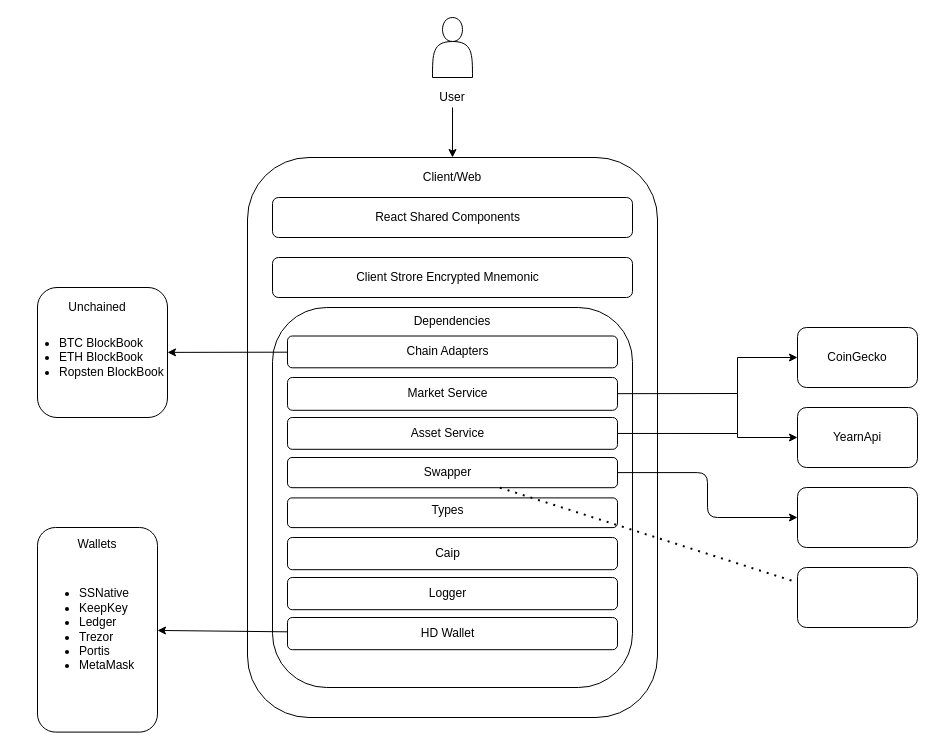
The diagram is 935 pixels wide and 750 high, and some of its shapes have lost their labels. Each missing label, with the centre of its shape:
0x API: (857,517)
Thorchain: (857,597)
